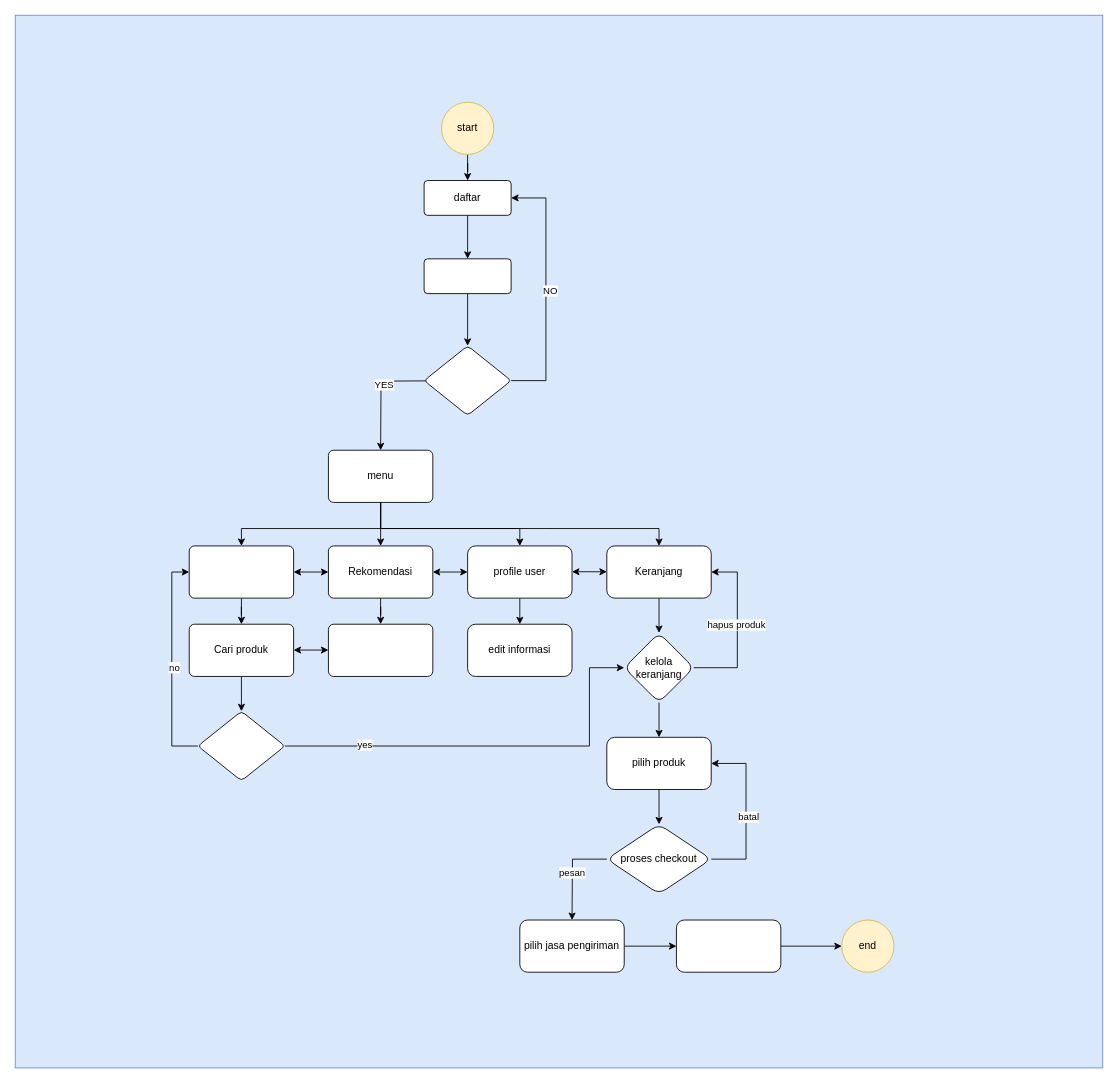
Image size: 1118x1083. Some labels were removed from this diagram. Here are the shapes that lost their labels. From the top down, the box of each, then its label:
(423, 258, 511, 294): login
(423, 345, 511, 415): Berhasil
(188, 545, 294, 598): Produk
(328, 623, 433, 676): list produk
(197, 710, 285, 781): tambahkan ke keranjang
(676, 919, 781, 972): pilih pembayaran
